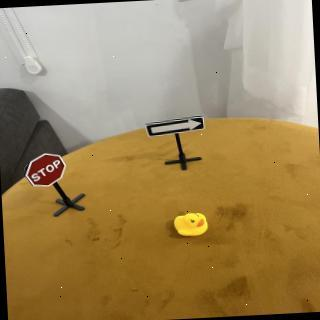duck_regular: (173, 212, 211, 240)
sign_oneway_right: (146, 116, 208, 140)
sign_stop: (25, 153, 70, 190)
